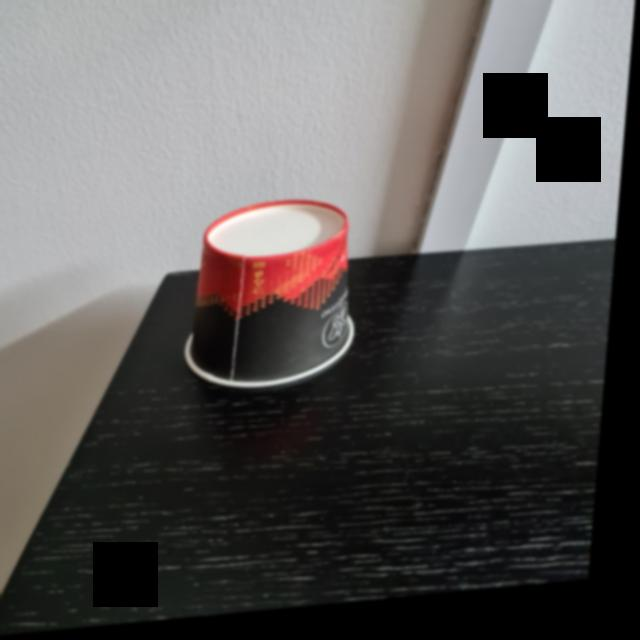cups: (187, 199, 368, 395)
